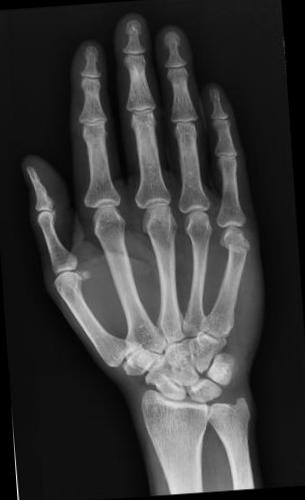fracture: (218, 231, 250, 256)
